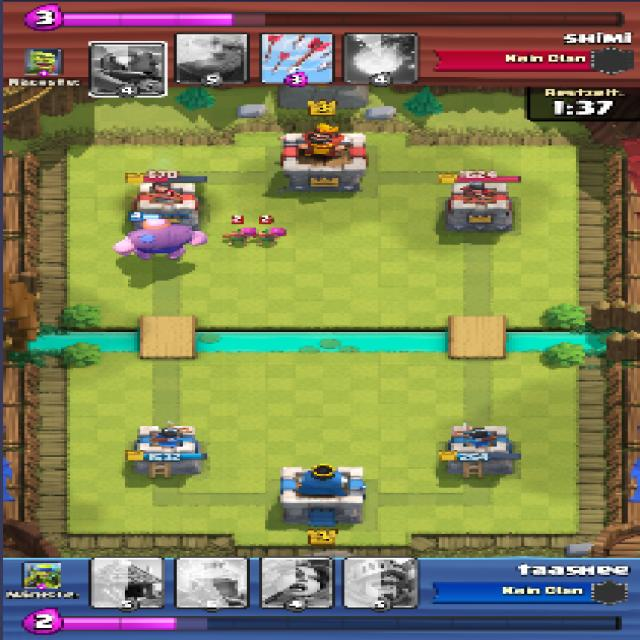Enemy-Archer: (255, 227, 288, 245), (224, 228, 255, 247)
Player-Giant: (111, 216, 206, 260)
